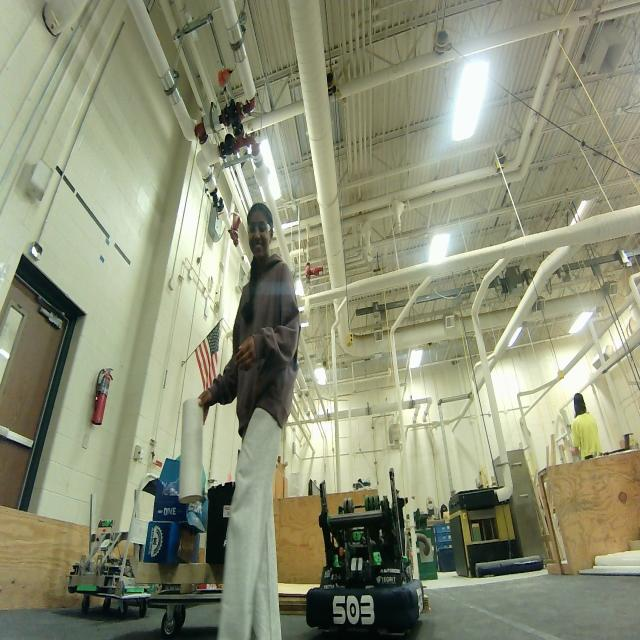coral: (178, 398, 207, 506)
